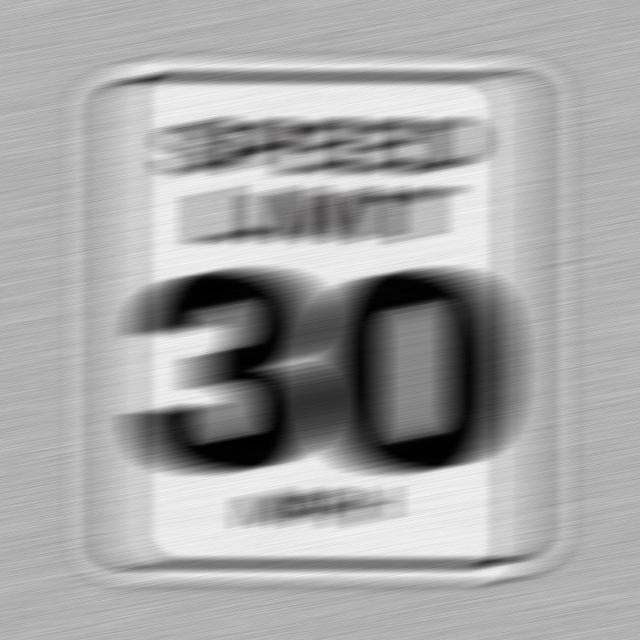speedLimit30: (90, 71, 559, 590)
